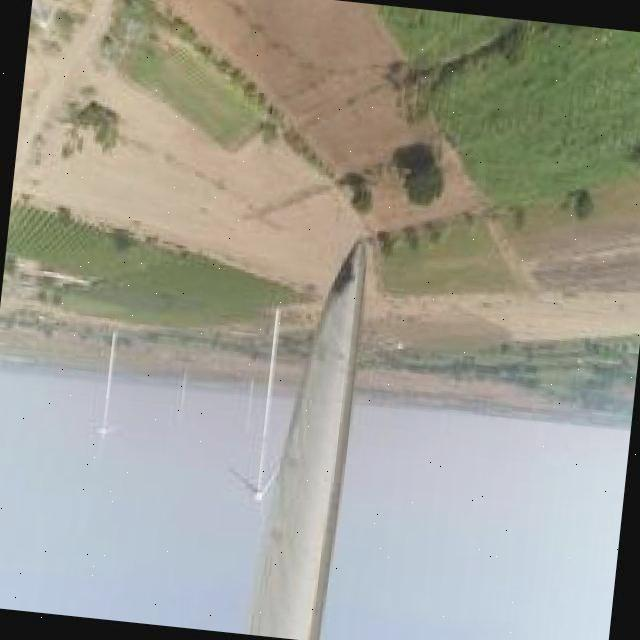Dirt: (250, 242, 360, 635)
Oil LEAKAGE: (329, 239, 364, 285)
